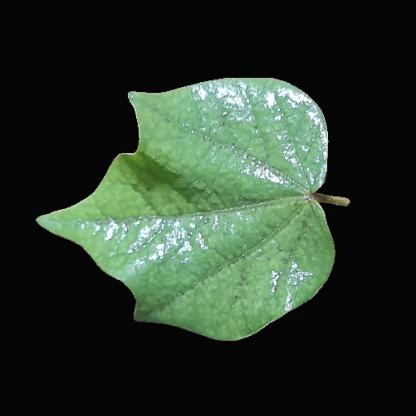healthy: (141, 137, 299, 273), (176, 195, 304, 315), (207, 82, 300, 127), (84, 182, 138, 252)
